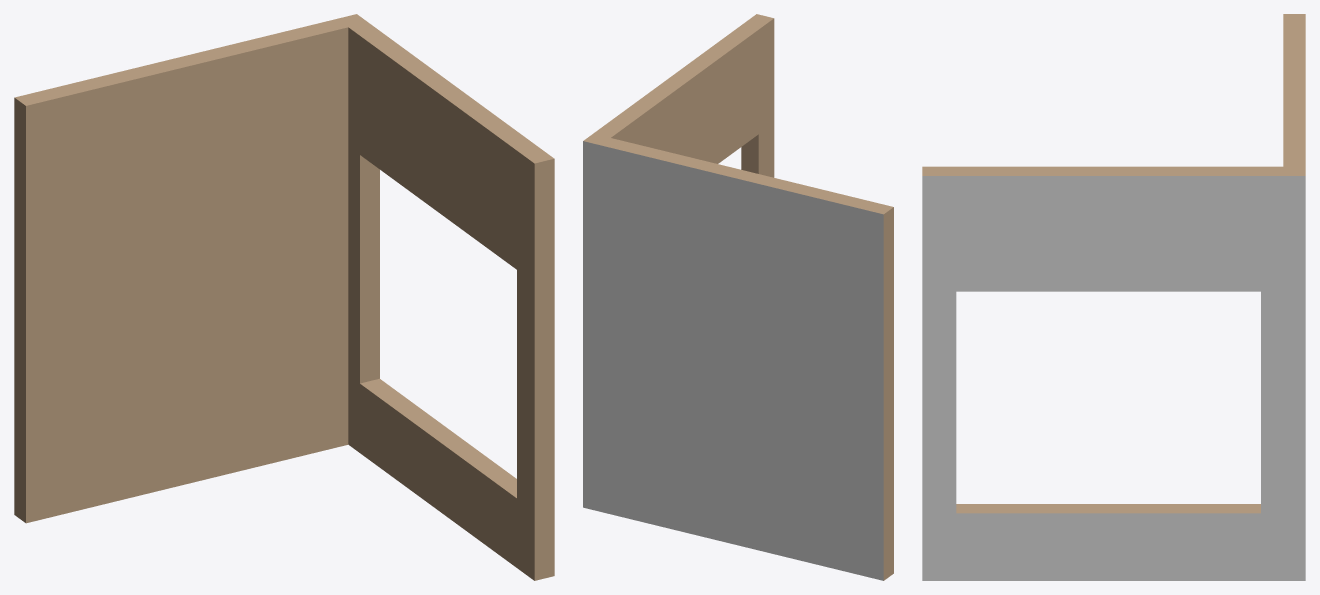
Rendered from Wall1_C2_14.fbx.
3 views of the same model, side by side, from view 1: azimuth 30°, elevation 25°; view 2: azimuth 150°, elevation 25°; view 3: azimuth 270°, elevation 25° (orthographic). The views are drawn at different scales.
Visible parts, largest first — view 1: Wall1_C2_14; view 2: Wall1_C2_14; view 3: Wall1_C2_14.
Boxes of the visible parts, bbox=[...] form: Wall1_C2_14: bbox=[14, 14, 554, 580]; Wall1_C2_14: bbox=[583, 14, 893, 580]; Wall1_C2_14: bbox=[922, 14, 1305, 580].
Size of the model in its own units: 258 by 300 by 258.
